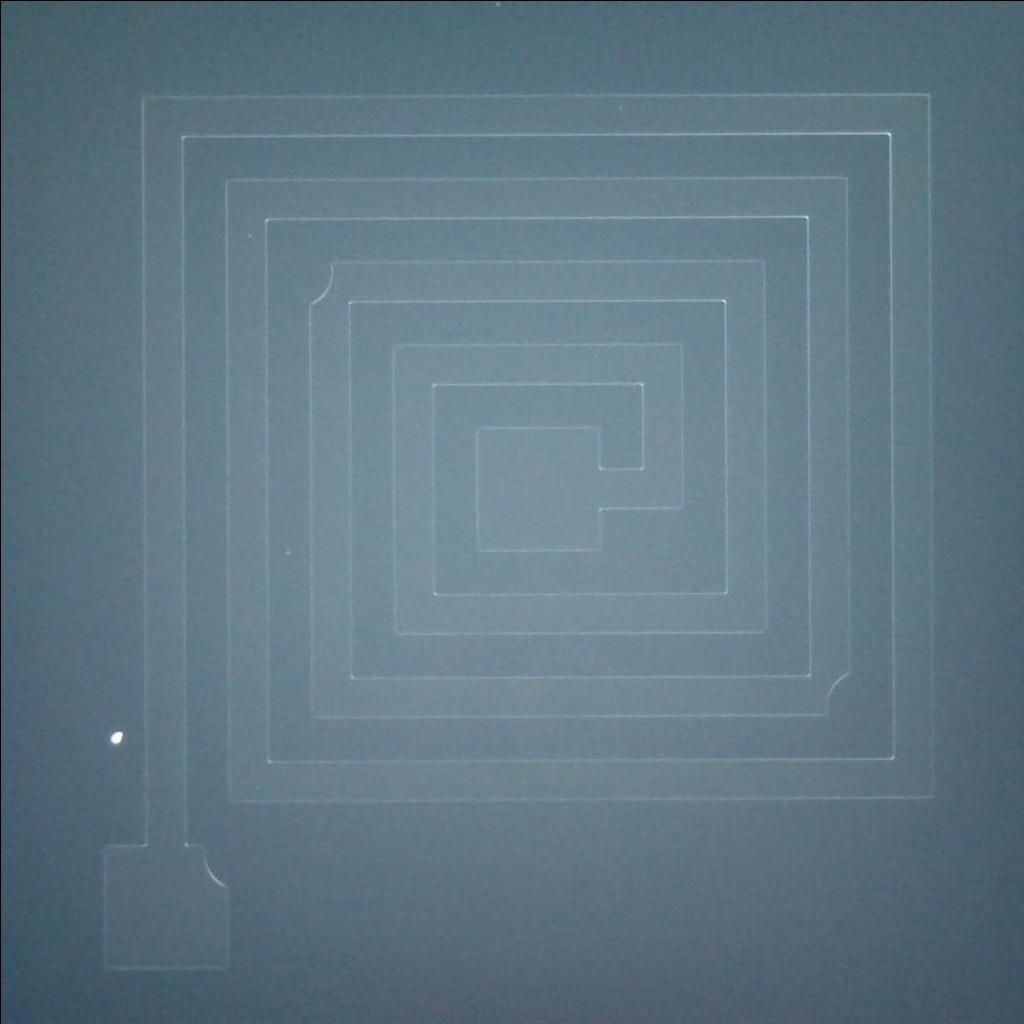curve circuit: (185, 831, 243, 900), (296, 249, 343, 313), (816, 663, 862, 726)
spot: (100, 723, 126, 751)
